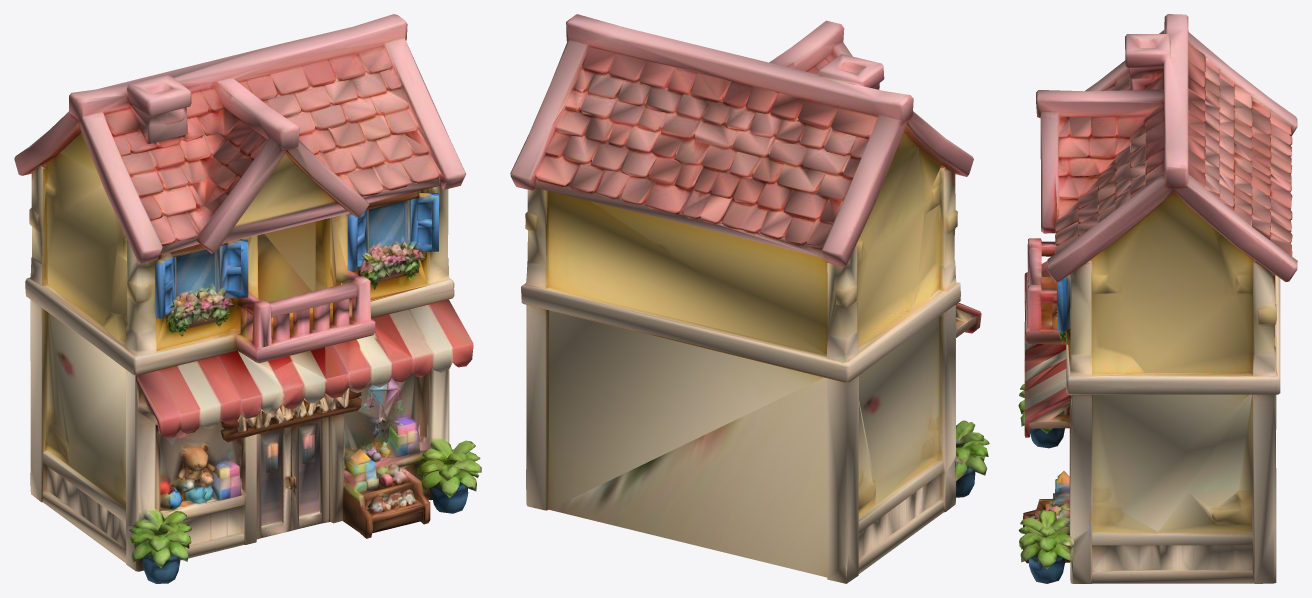
File: mainan.glb
3 renders of one model, left to right at view 1: azimuth 30°, elevation 25°; view 2: azimuth 150°, elevation 25°; view 3: azimuth 270°, elevation 25°, orthographic. The views are drawn at different scales.
Visible parts, largest first — view 1: node_0; view 2: node_0; view 3: node_0.
Part boxes in pixels (x1,y1,x2,y2): node_0: [14, 14, 481, 583]; node_0: [510, 14, 989, 583]; node_0: [1018, 14, 1297, 583].
Bounding box in the file's own units: 0.7424 × 0.8938 × 0.5334.
1 material, 1 textured.
